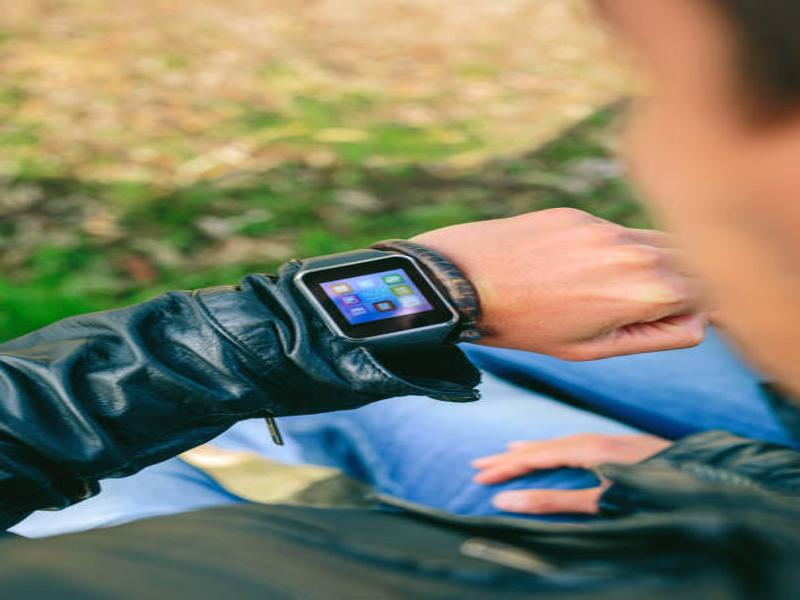watch: (295, 243, 462, 376)
